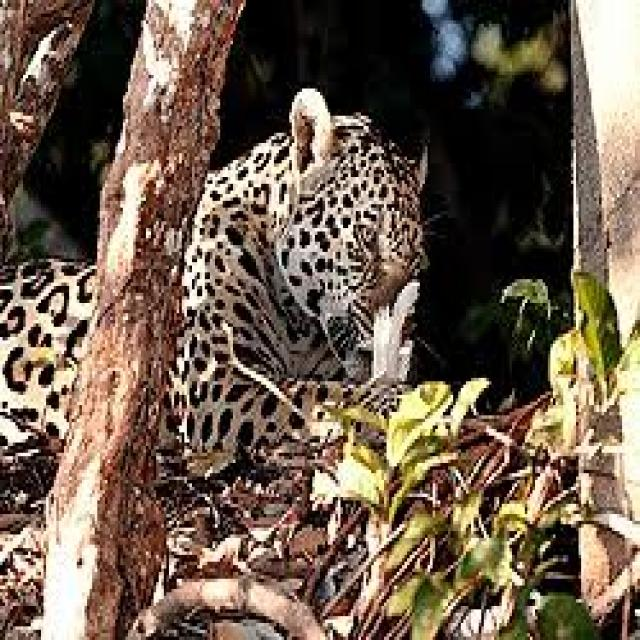Jaguar: (0, 85, 430, 487)
